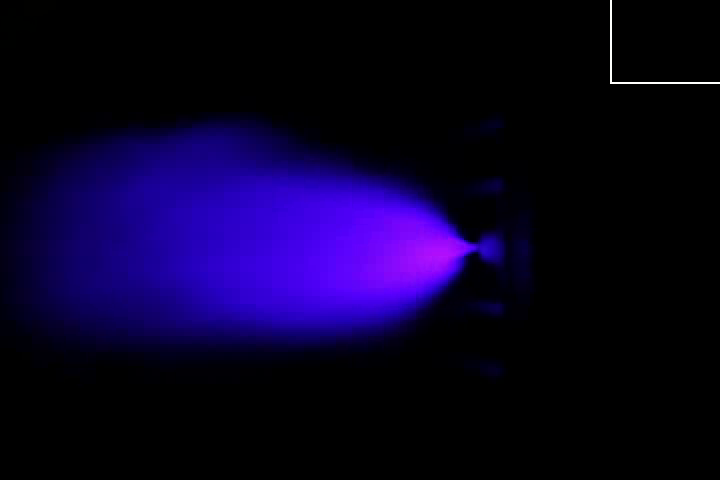burner cap: (478, 226, 504, 268)
stable: (341, 197, 478, 302)
